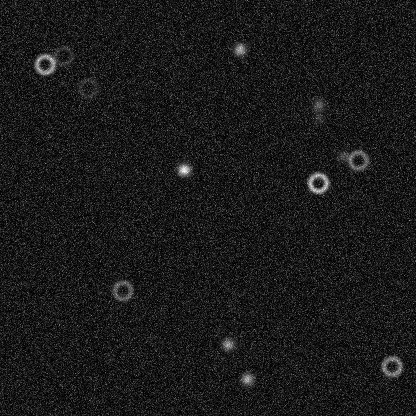Ring: (346, 148, 370, 172), (75, 75, 99, 99), (306, 170, 330, 194), (110, 278, 134, 302), (32, 52, 56, 76), (379, 354, 403, 378), (51, 43, 75, 67)
Spot: (231, 41, 247, 57), (310, 109, 326, 125), (334, 148, 350, 164), (219, 336, 235, 352), (175, 161, 191, 177), (239, 370, 255, 386), (310, 96, 326, 112)
